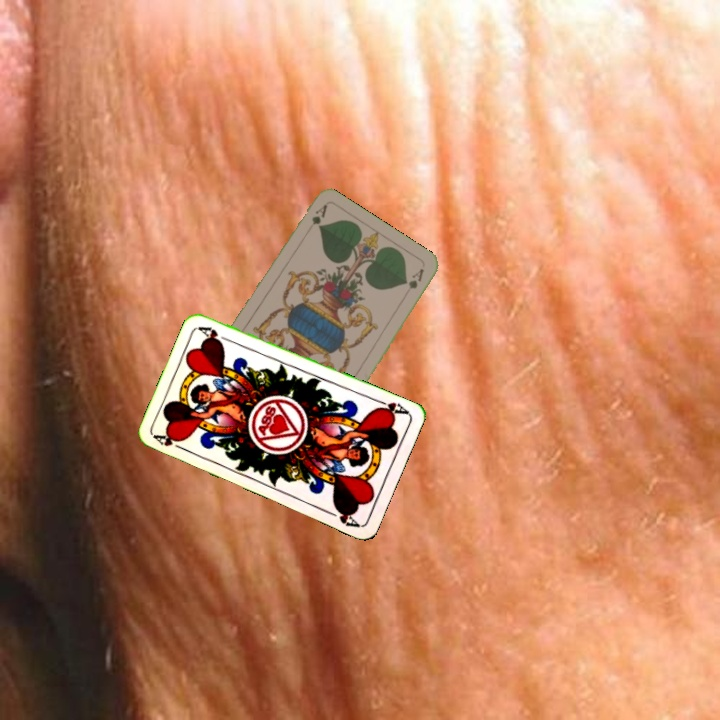GA: (302, 201, 330, 237)
HA: (150, 430, 189, 454), (371, 395, 411, 418)
